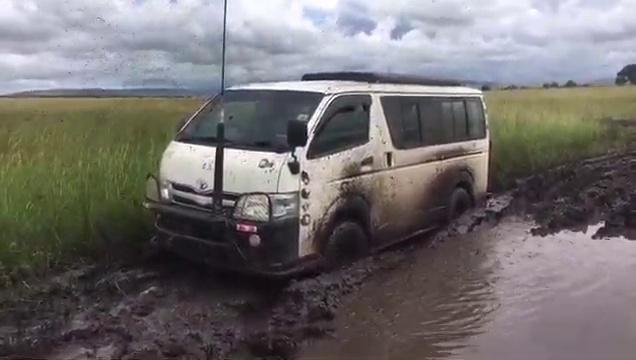van: (147, 72, 496, 259)
